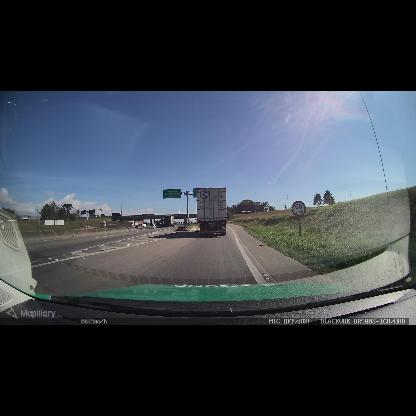O-MP: (184, 218, 187, 225)
R-19: (291, 201, 306, 217)
